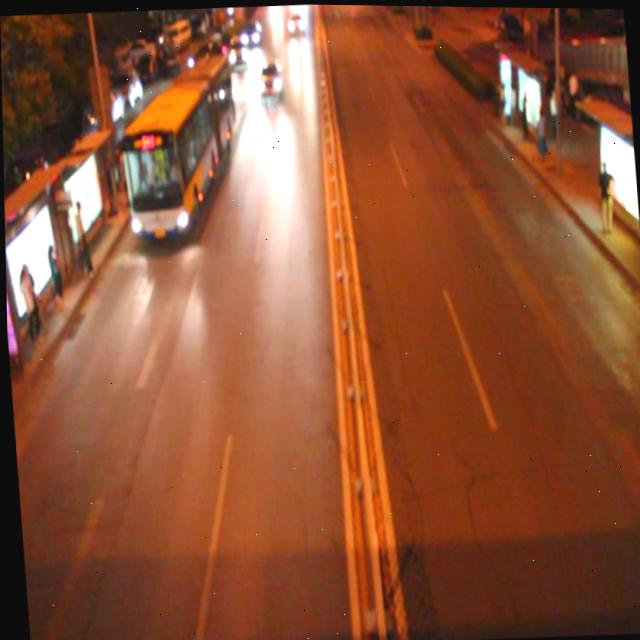car: (256, 57, 283, 97)
truck: (226, 37, 250, 67)
van: (114, 53, 240, 238)
